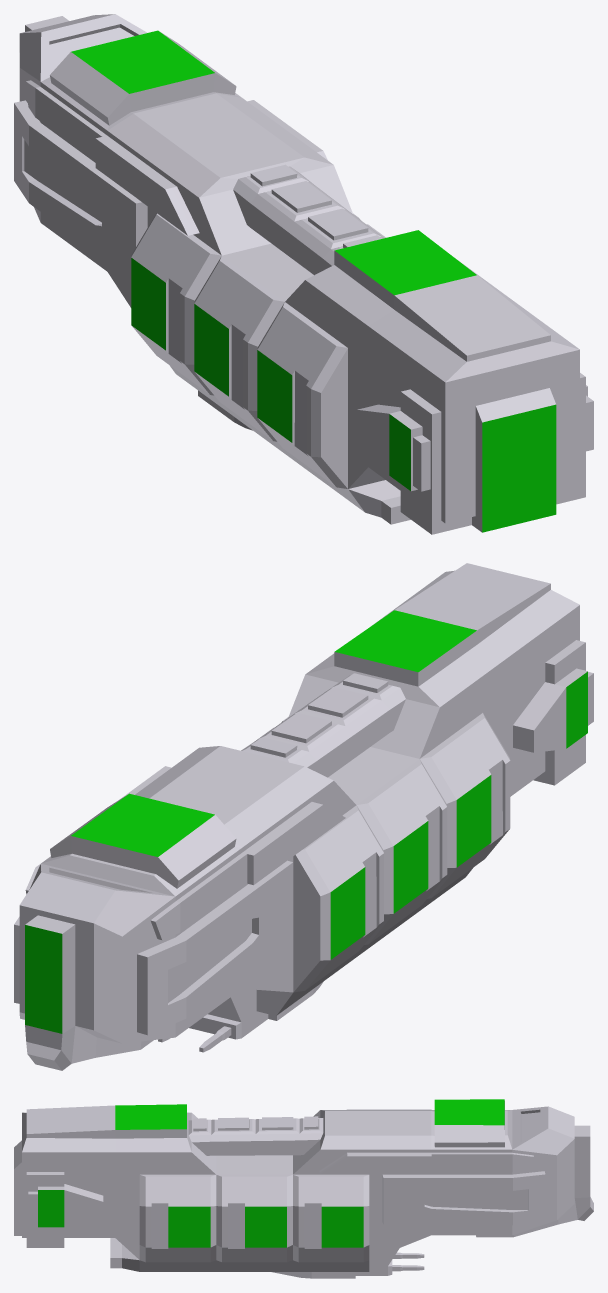
The model's file is hull.handle.fbx.
3 renders of one model, top to bottom at view 1: azimuth 30°, elevation 25°; view 2: azimuth 150°, elevation 25°; view 3: azimuth 270°, elevation 25°, orthographic. The views are drawn at different scales.
Visible parts, largest first — view 1: hull.handle; view 2: hull.handle; view 3: hull.handle.
Boxes of the visible parts, x1,y1,x2,y2 form: hull.handle: [14, 14, 593, 534]; hull.handle: [14, 563, 593, 1070]; hull.handle: [14, 1099, 593, 1278].
Bounding box in the file's own units: 1.41 × 1.73 × 5.88.
